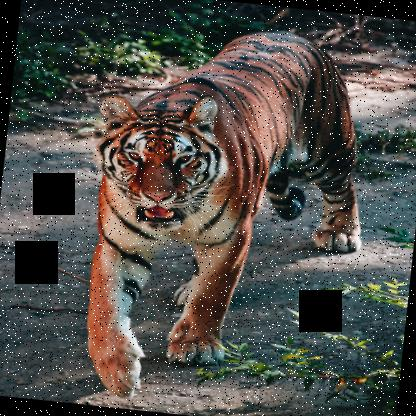Panthera tigris: (69, 10, 380, 415)
